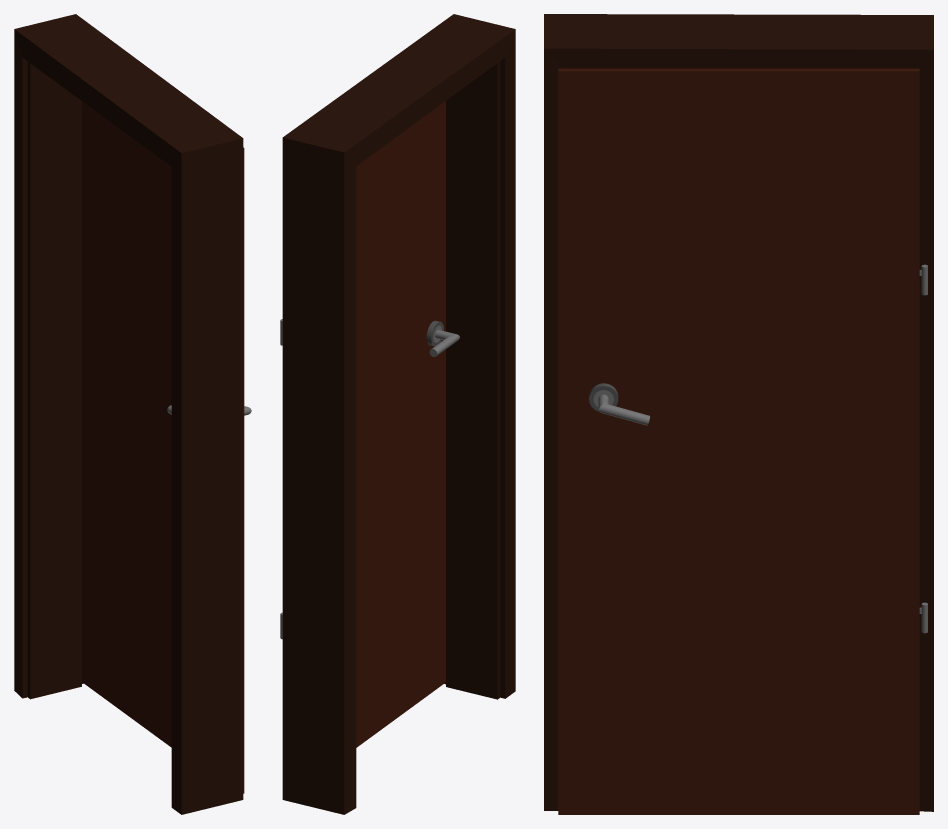
Rendered from door83.obj.
3 views of the same model, side by side, from view 1: azimuth 30°, elevation 25°; view 2: azimuth 150°, elevation 25°; view 3: azimuth 270°, elevation 25° (orthographic). The views are drawn at different scales.
Parts seen in each view (by area): view 1: Cylinder.005, Cylinder.001; view 2: Cylinder.005, Cylinder.001; view 3: Cylinder.001, Cylinder.005.
Part boxes in pixels (x1,y1,x2,y2): Cylinder.005: (14, 14, 243, 814); Cylinder.001: (82, 101, 244, 793); Cylinder.005: (280, 14, 515, 814); Cylinder.001: (280, 101, 445, 747); Cylinder.001: (558, 68, 927, 814); Cylinder.005: (544, 14, 933, 811).
Size of the model in its own units: 0.3039 by 2.05 by 0.95.
